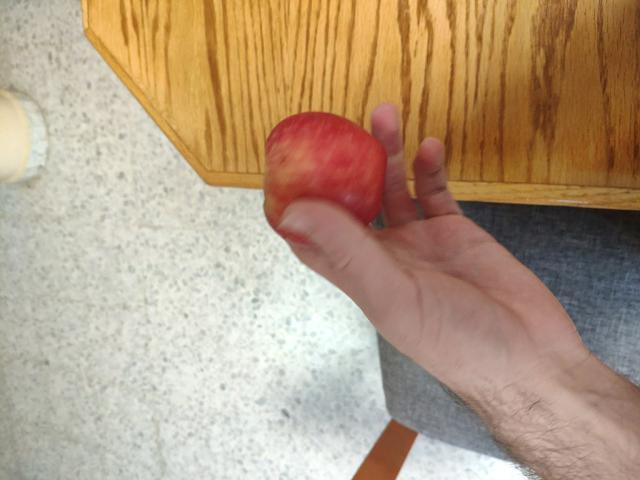apple: (251, 115, 387, 242)
